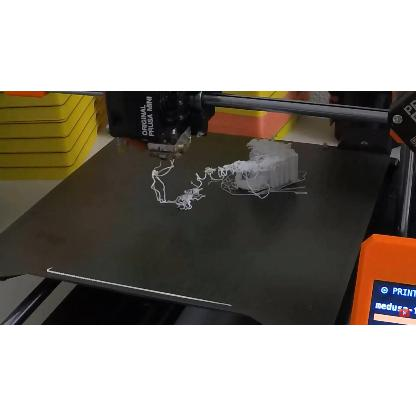fail: (143, 159, 243, 209)
